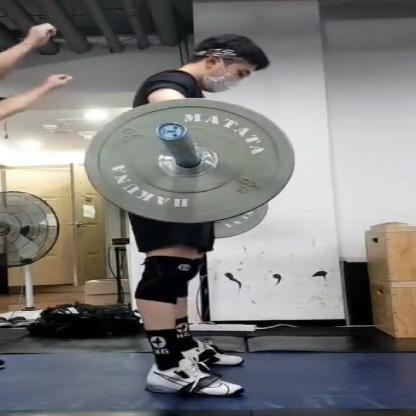Barbell: (86, 97, 298, 225)
